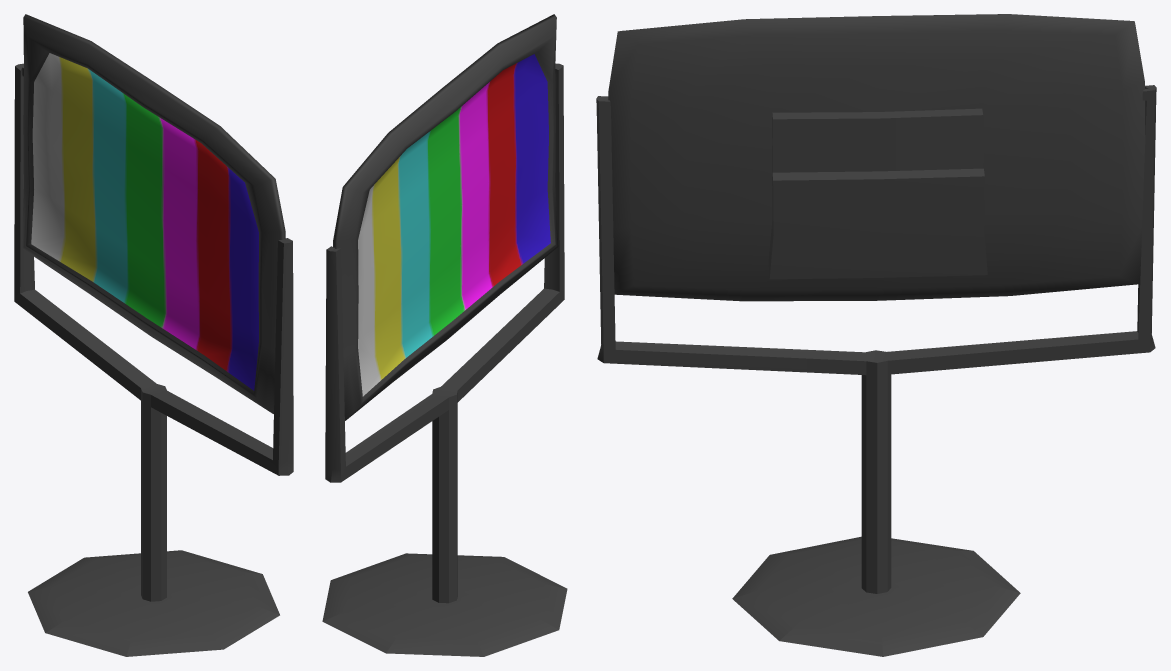
The picture shows the model from 3 angles, left to right: view 1: azimuth 30°, elevation 25°; view 2: azimuth 150°, elevation 25°; view 3: azimuth 270°, elevation 25°; orthographic projection. The views are drawn at different scales.
Visible parts, largest first — view 1: polySurface406; view 2: polySurface406; view 3: polySurface406.
Part boxes in pixels (x1,y1,x2,y2): polySurface406: (14, 14, 293, 656); polySurface406: (322, 14, 567, 656); polySurface406: (596, 14, 1156, 656).
Bounding box in the file's own units: 0.8216 × 1.82 × 1.59.
1 material, 1 textured.
